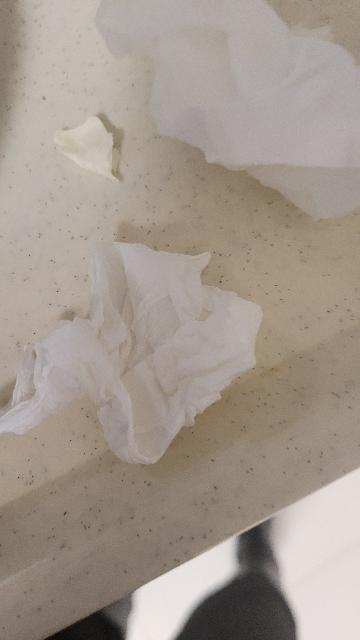Plastik: (95, 0, 360, 221), (0, 243, 261, 462)
